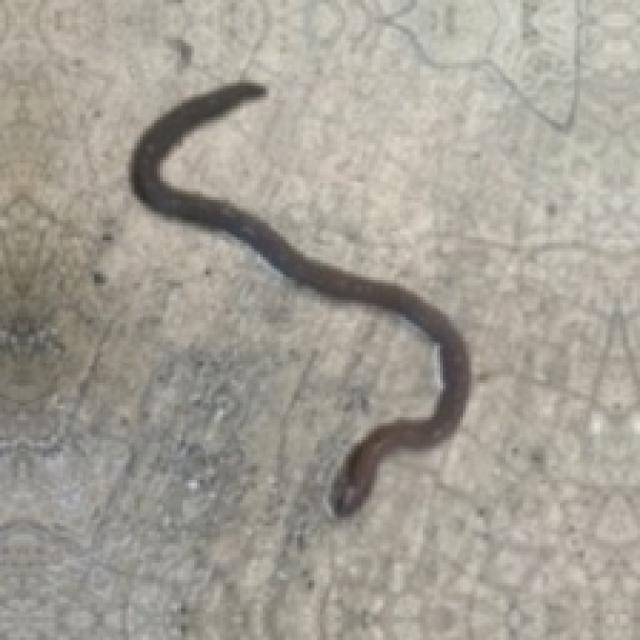gervais worm snake: (131, 83, 469, 514)
